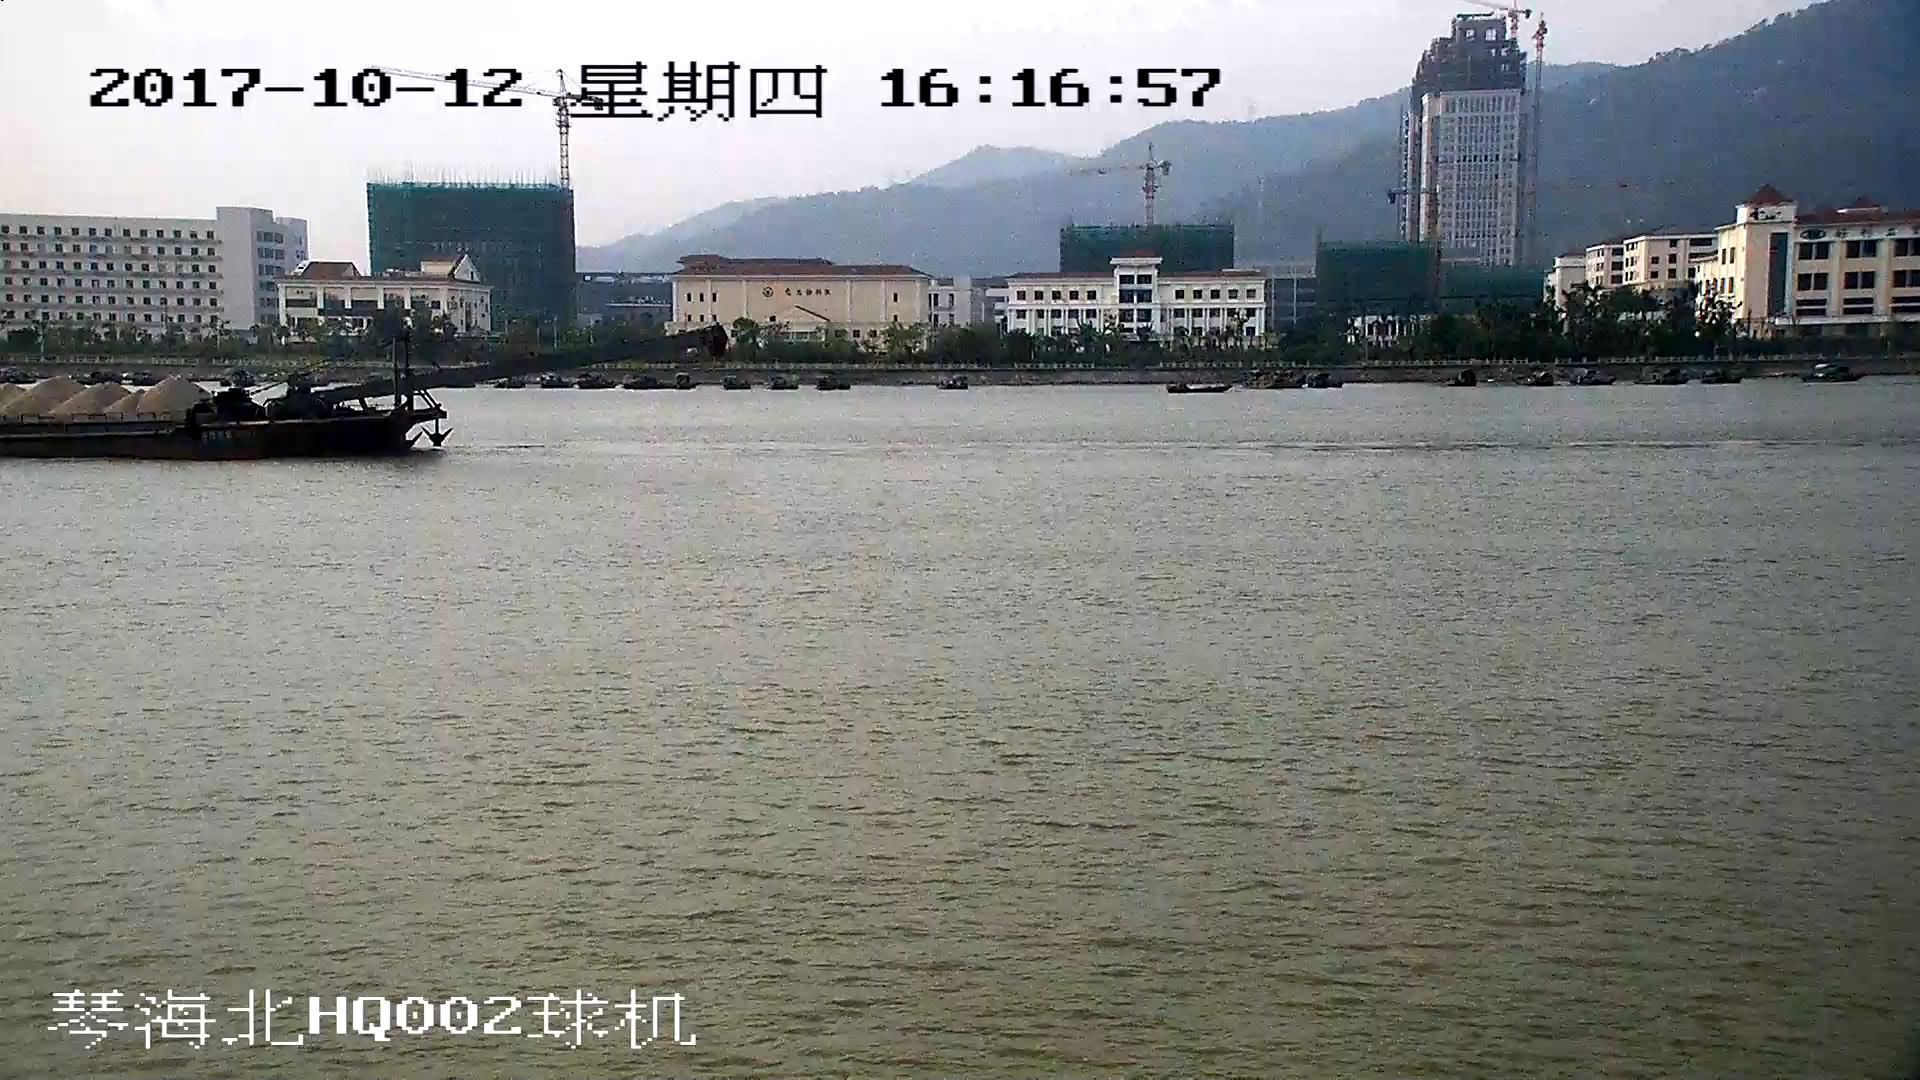ore carrier: (1, 329, 715, 463)
